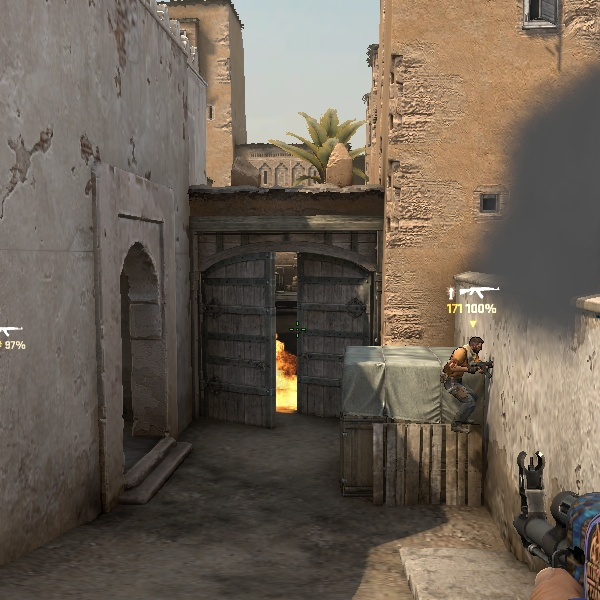t_body: (438, 336, 496, 419)
t_head: (467, 335, 484, 356)
